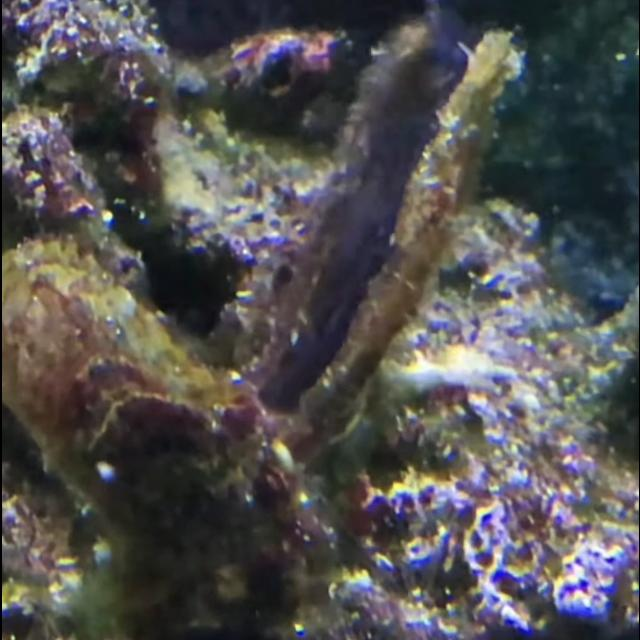Oyster-Closed: (1, 240, 306, 602)
Oyster-Open: (208, 18, 522, 468)
